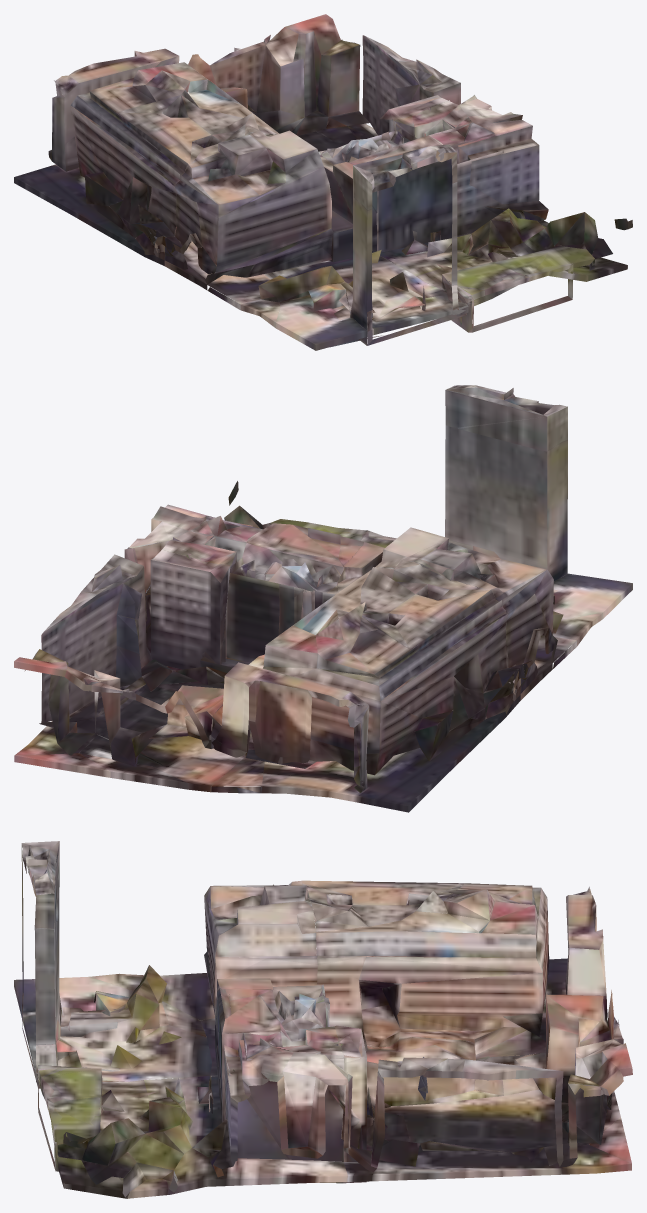
The picture shows the model from 3 angles, top to bottom: view 1: azimuth 30°, elevation 25°; view 2: azimuth 150°, elevation 25°; view 3: azimuth 270°, elevation 25°; orthographic projection. The views are drawn at different scales.
Visible parts, largest first — view 1: Mesh_0; view 2: Mesh_0; view 3: Mesh_0.
Part boxes in pixels (x1,y1,x2,y2): Mesh_0: (14,14,632,350); Mesh_0: (14,385,632,812); Mesh_0: (14,841,632,1198).
Size of the model in its own units: 135 by 66.57 by 165.
2 materials, 2 textured.
